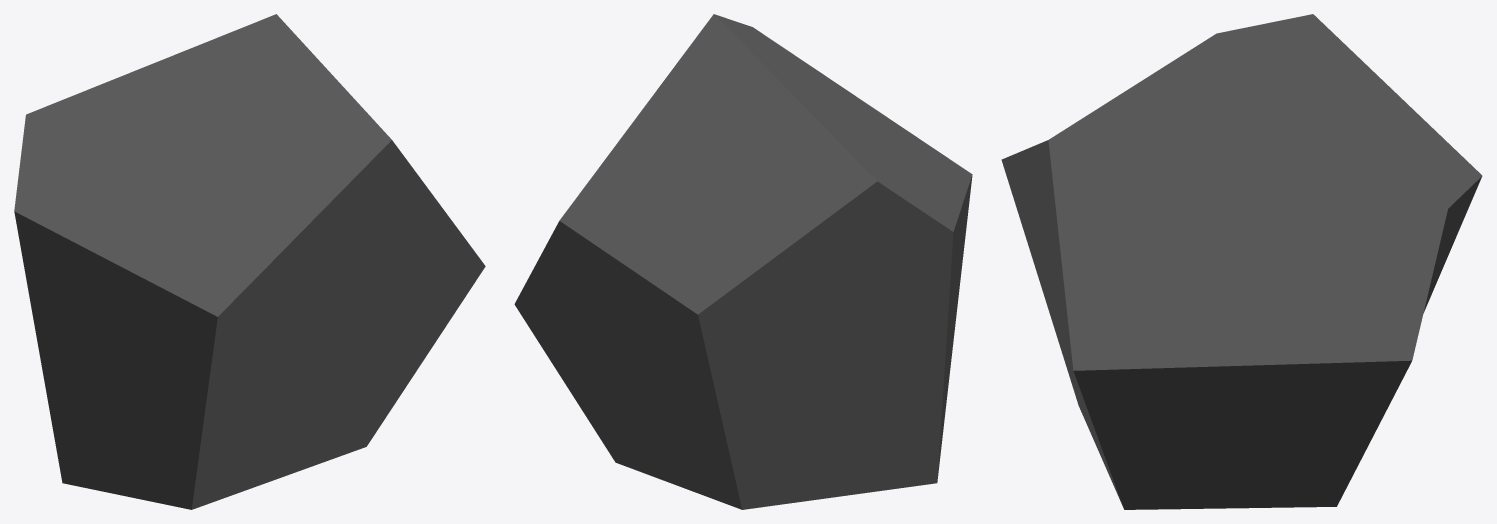
File: Rock.fbx
3 views of the same model, side by side, from view 1: azimuth 30°, elevation 25°; view 2: azimuth 150°, elevation 25°; view 3: azimuth 270°, elevation 25° (orthographic). The views are drawn at different scales.
Parts seen in each view (by area): view 1: Rock; view 2: Rock; view 3: Rock.
Boxes of the visible parts, x1=… form: Rock: x1=14, y1=14, x2=485, y2=509; Rock: x1=514, y1=14, x2=972, y2=509; Rock: x1=1001, y1=14, x2=1482, y2=509.
Bounding box in the file's own units: 102 × 102 × 98.68.
